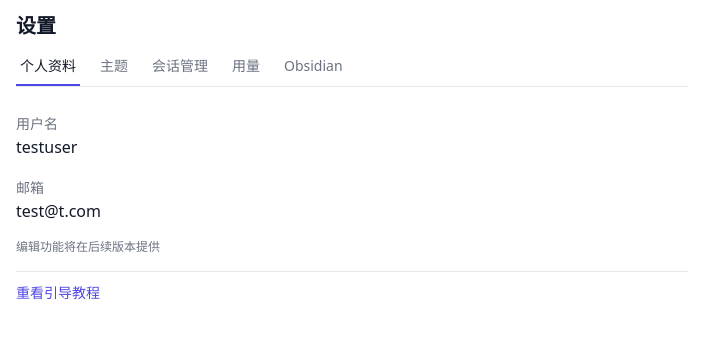
Test: SettingsPage › shows server-authoritative credits usage
What coordinates should you click on to do the following:
click the button "用量"
I would click on:
 (246, 71)
Its box is [228,56,264,86].
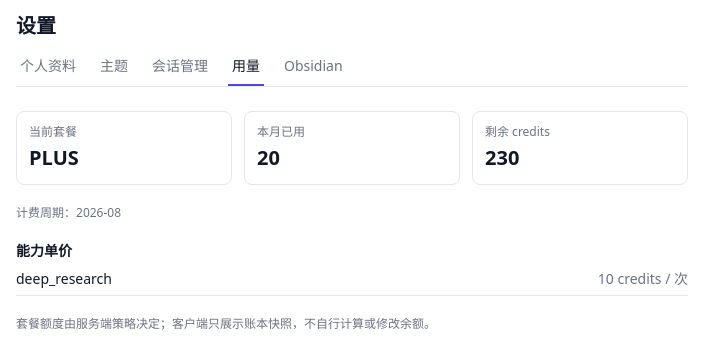
expect the text "PLUS" is shown: met, box [29,144,79,171]
expect the text "230" is shown: met, box [485,144,519,171]
expect the text "deep_research" is shown: met, box [16,269,112,289]
